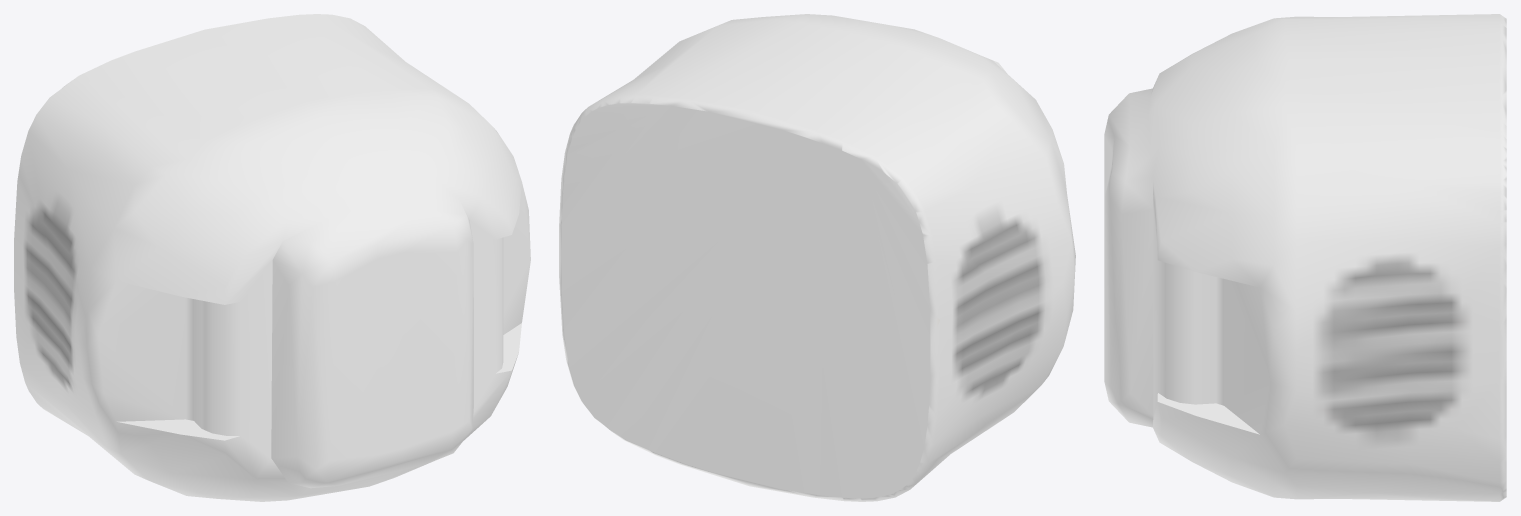
The model's file is link_gripper.3obj.obj.glb.
3 renders of one model, left to right at view 1: azimuth 30°, elevation 25°; view 2: azimuth 150°, elevation 25°; view 3: azimuth 270°, elevation 25°, orthographic. The views are drawn at different scales.
Visible parts, largest first — view 1: link_gripper.3obj.obj; view 2: link_gripper.3obj.obj; view 3: link_gripper.3obj.obj.
Part boxes in pixels (bbox=[...]): link_gripper.3obj.obj: bbox=[14, 14, 530, 501]; link_gripper.3obj.obj: bbox=[559, 14, 1075, 501]; link_gripper.3obj.obj: bbox=[1104, 14, 1506, 501].
Bounding box in the file's own units: 0.0981 × 0.0811 × 0.0742.
Materials: 1 (1 with a texture image).
